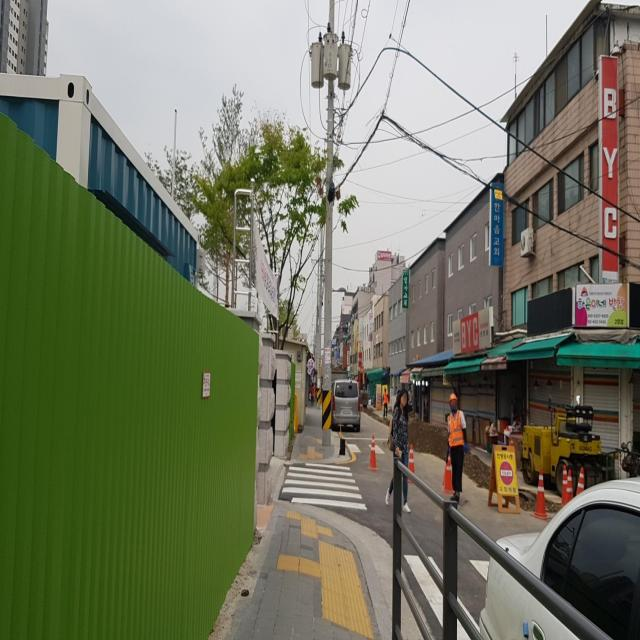횡단보도: (281, 462, 368, 512)
